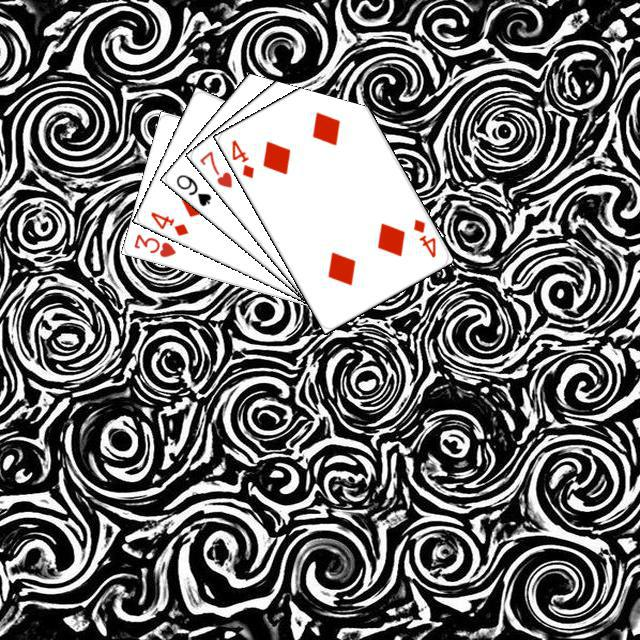3h: (129, 229, 178, 259)
4d: (146, 207, 190, 238), (408, 214, 438, 259), (227, 135, 256, 180)
7h: (194, 146, 234, 190)
9s: (171, 169, 213, 208)
